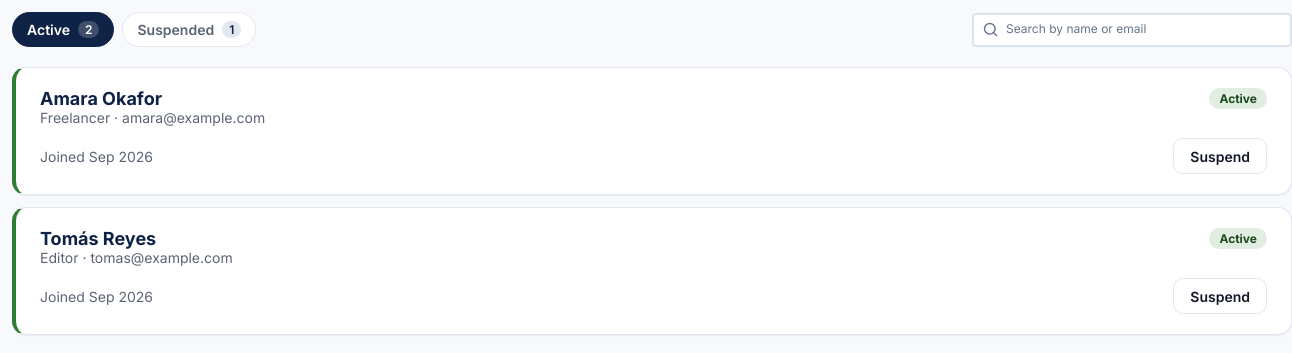
Test: AccountList › finds people by name or email
Type "TOMAS@" into the search field named "Search accounts" at (1144, 30), box [1006,22,1282,37]
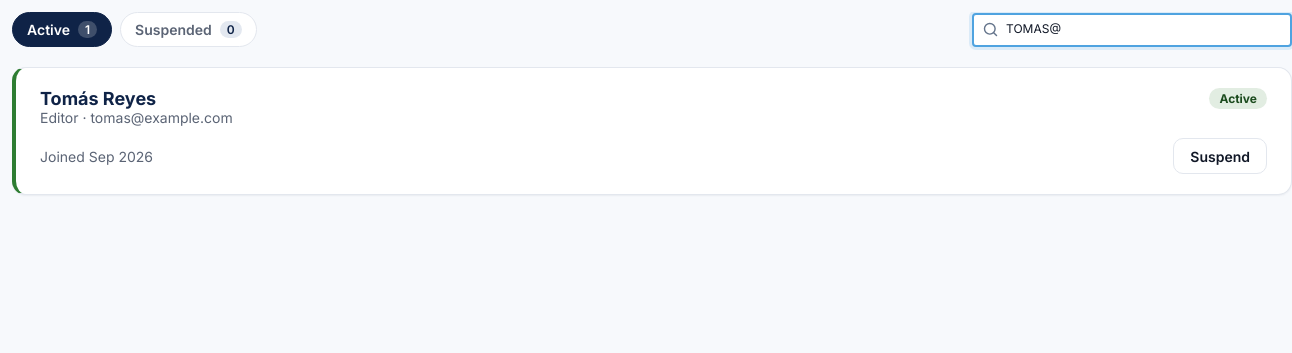
Check: the heading "Tomás Reyes" is shown, box [40,88,156,109]
Check: the number of list items is 1, box [12,67,1291,195]
Type "nobody" into the search field at (1144, 30), box [1006,22,1282,37]
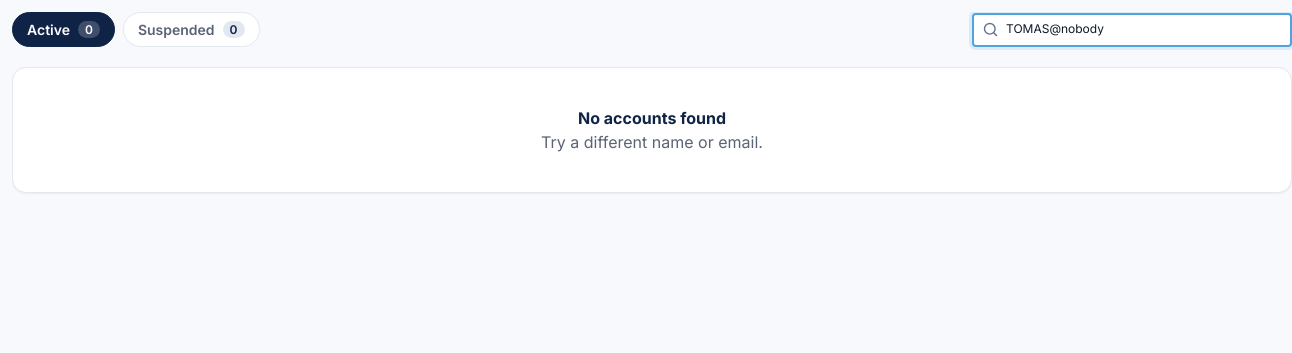
Check: the text "Try a different name or email." is shown, box [541,132,763,152]
